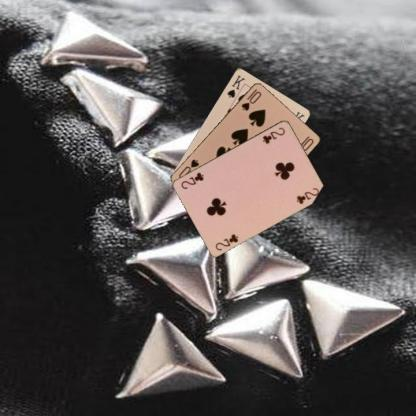10s: (239, 86, 262, 112)
2c: (212, 231, 240, 251), (260, 124, 286, 145)
Ks: (224, 72, 246, 99)
